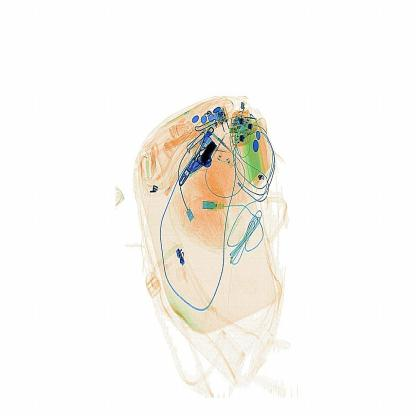scissors: (196, 134, 223, 173)
